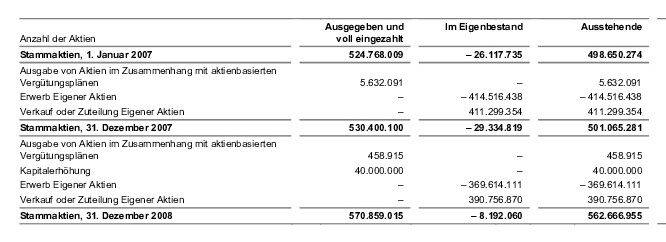table: (0, 0, 666, 242)
